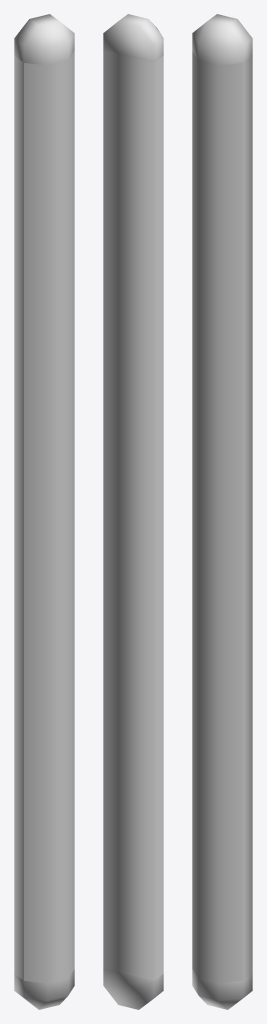
Rendered from light_b.fbx.
3 renders of one model, left to right at view 1: azimuth 30°, elevation 25°; view 2: azimuth 150°, elevation 25°; view 3: azimuth 330°, elevation 25°, orthographic.
Parts seen in each view (by area): view 1: light_b; view 2: light_b; view 3: light_b.
Part boxes in pixels (x1,y1,x2,y2): light_b: (14, 14, 74, 1009); light_b: (103, 14, 163, 1009); light_b: (192, 14, 252, 1009).
Bounding box in the file's own units: 0.1125 × 2.08 × 0.0714.
